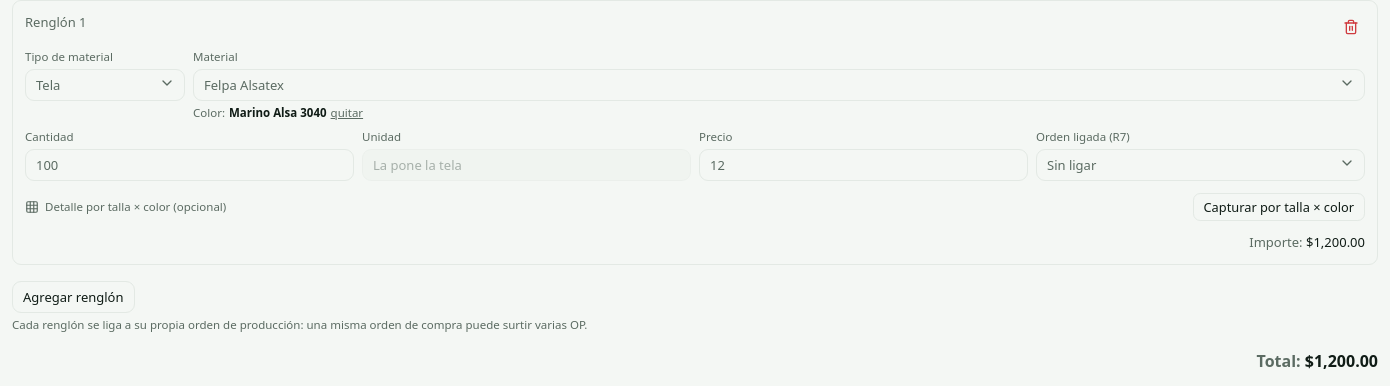
<EditorLineasOc> · el color de la tela (§Post-F9.89) › 🔴 cambiar de TELA suelta el color: el color era de la tela anterior
Select "Cardigan" in the dropdown with test id "selector-tela-oc": coordinates (779, 85) top-left (193, 69), bottom-right (1365, 101)
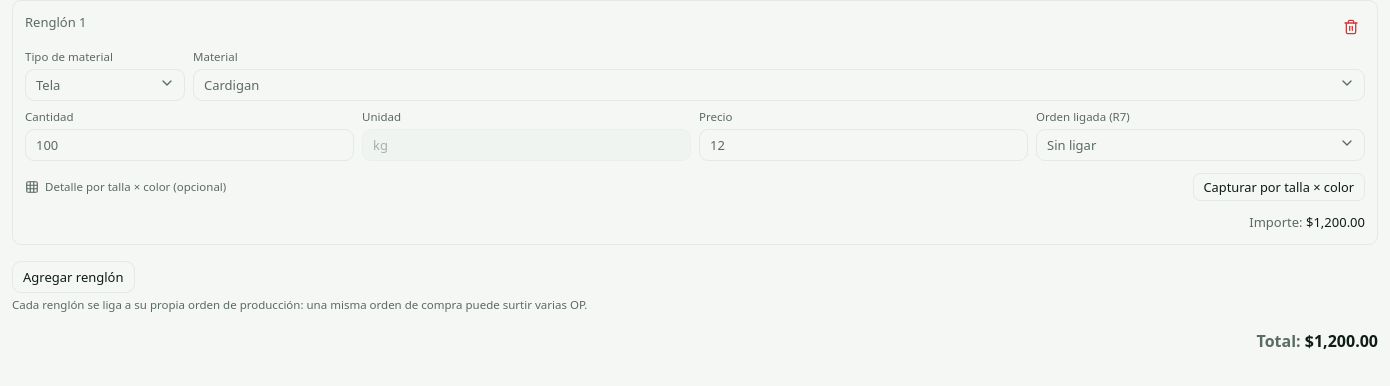
Result: the element with test id "color-renglon-oc" is gone
